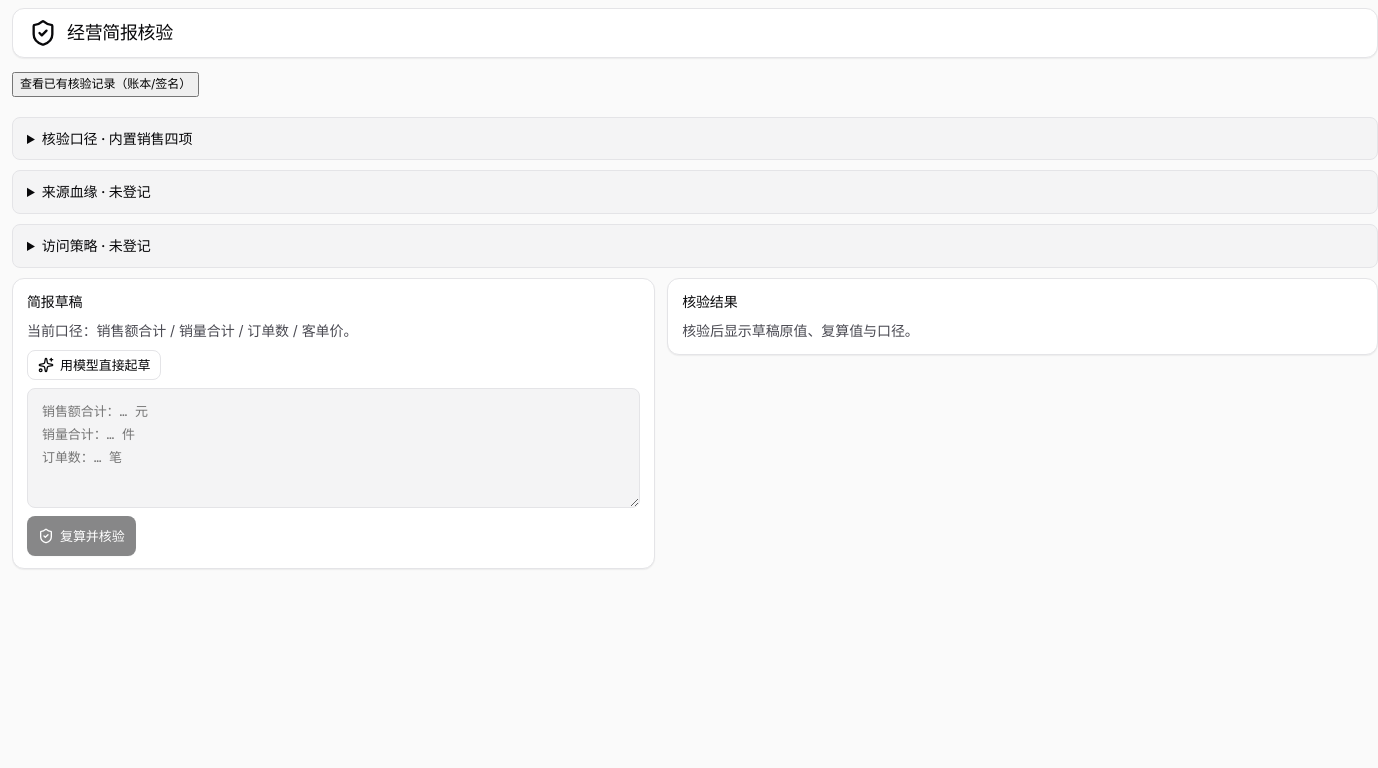
it: SalesAudit › 快速起草把返回草稿填入文本框，且不自动触发核验
The width and height of the screenshot is (1378, 768).
Click the button "用模型直接起草" at coordinates (94, 365), box [27,350,162,380]
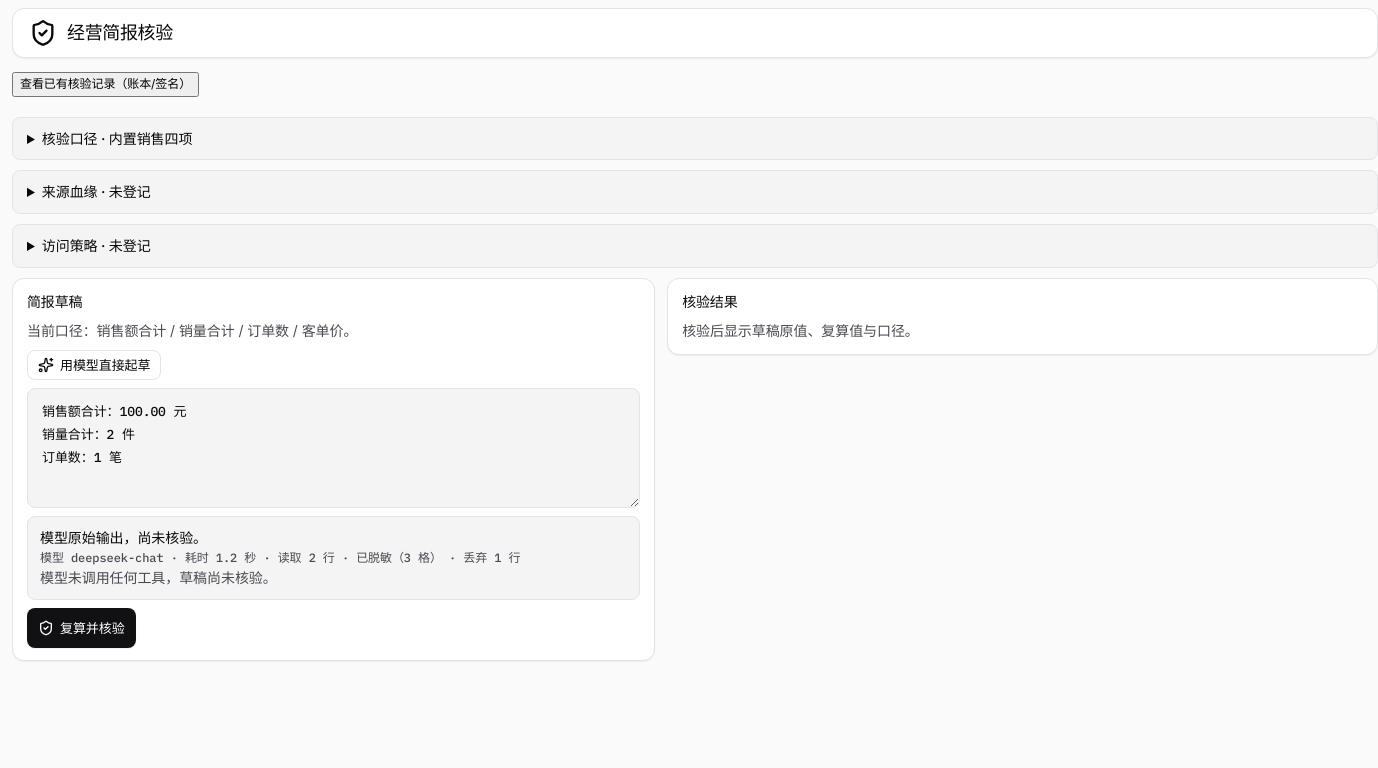
Now the text "模型原始输出，尚未核验。" is shown, box [40,529,207,546]
Now the text "模型 deepseek-chat · 耗时 1.2 秒 · 读取 2 行 · 已脱敏（3 格） · 丢弃 1 行" is shown, box [40,550,520,565]
